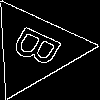B: (10, 23, 72, 74)
